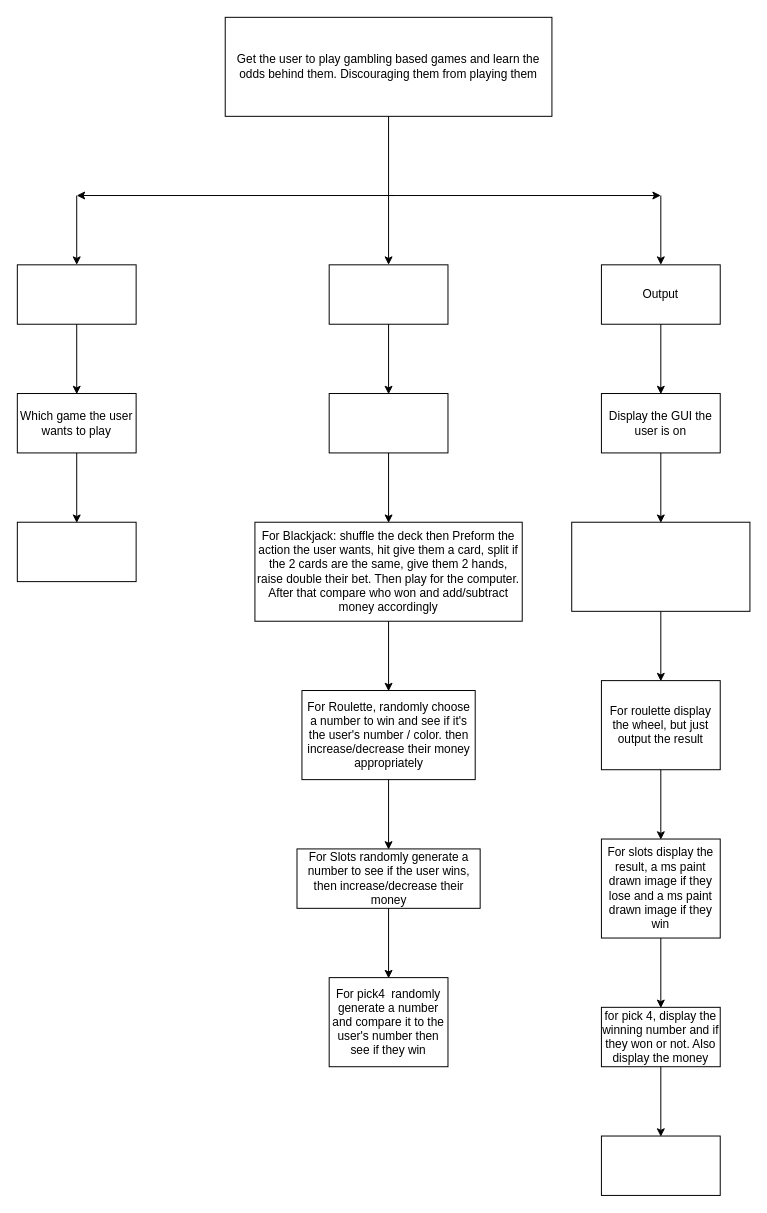
Some shapes in this 767 by 1213 pixel diagram are drawn without their labels. Each missing label, with the centre of its shape:
Actions they want to take in that game (eg. hit in blackjack): the point at 76,551
For blackjack display the cards and money: the point at 660,566
For the explanation GUIs display a graph and a bit of text: the point at 660,1165
Input: the point at 76,294
Processing: the point at 388,294
Switch the active GUI to the one the user wants: the point at 388,423
